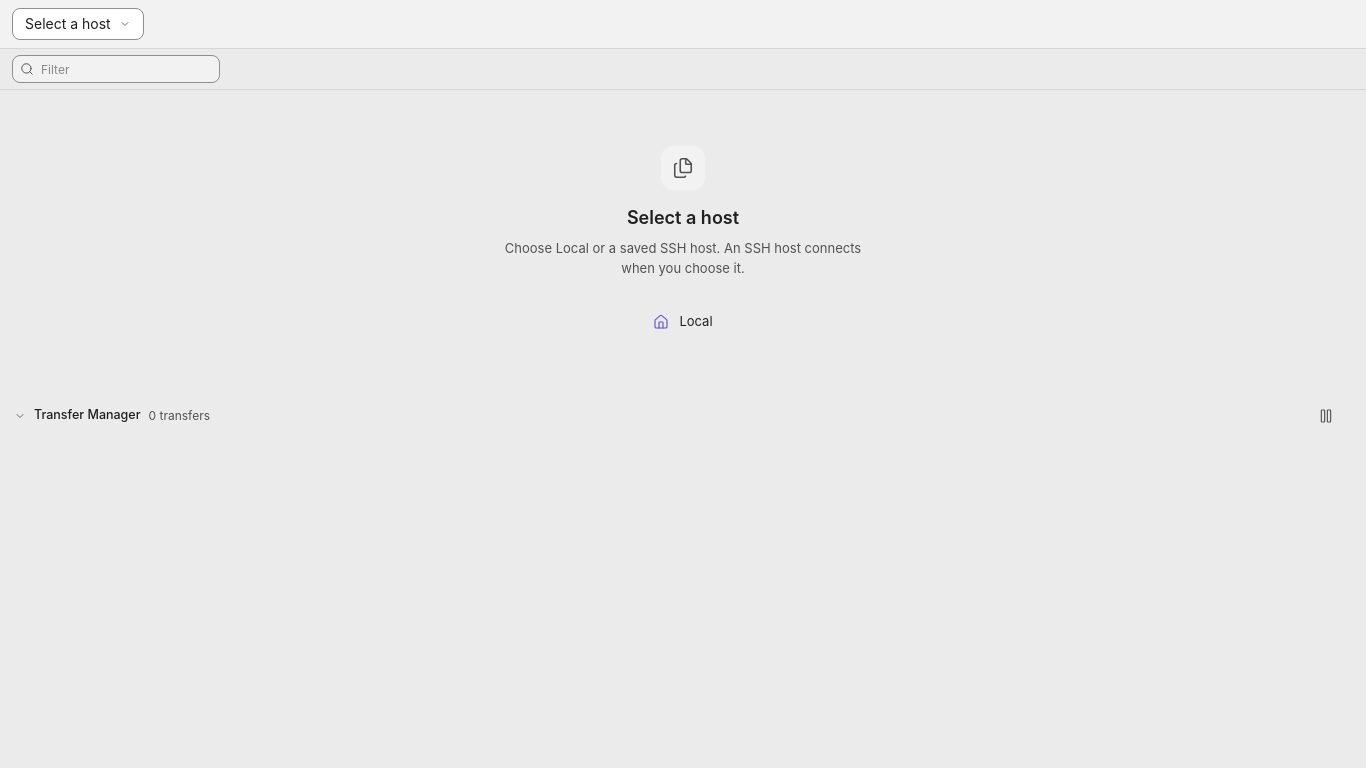
Scenario: SFTPPanel uploads › queues selected remote entries for a move to an absolute directory
Click the button "Select a host": (78,24) 12,8 -> 144,40
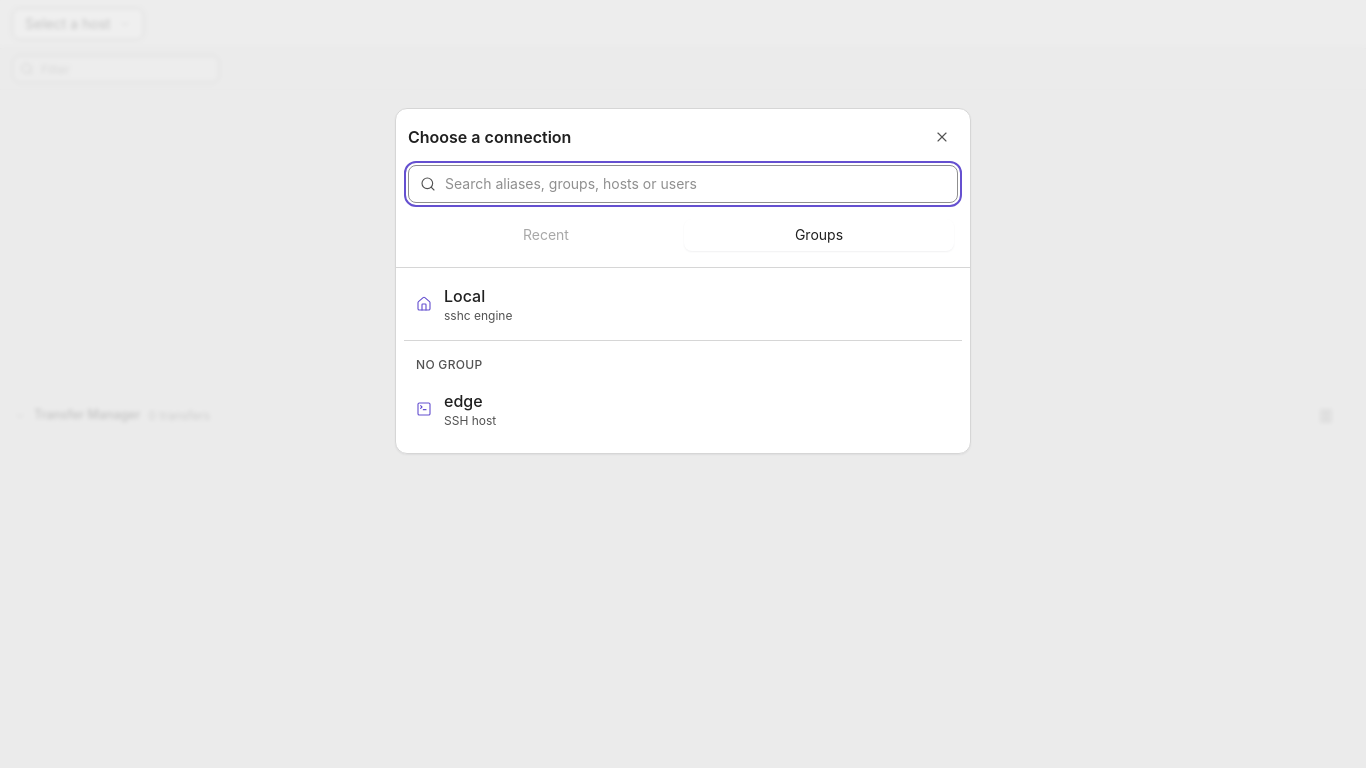
Click the button "edge SSH host": (463,401) 404,380 -> 962,436
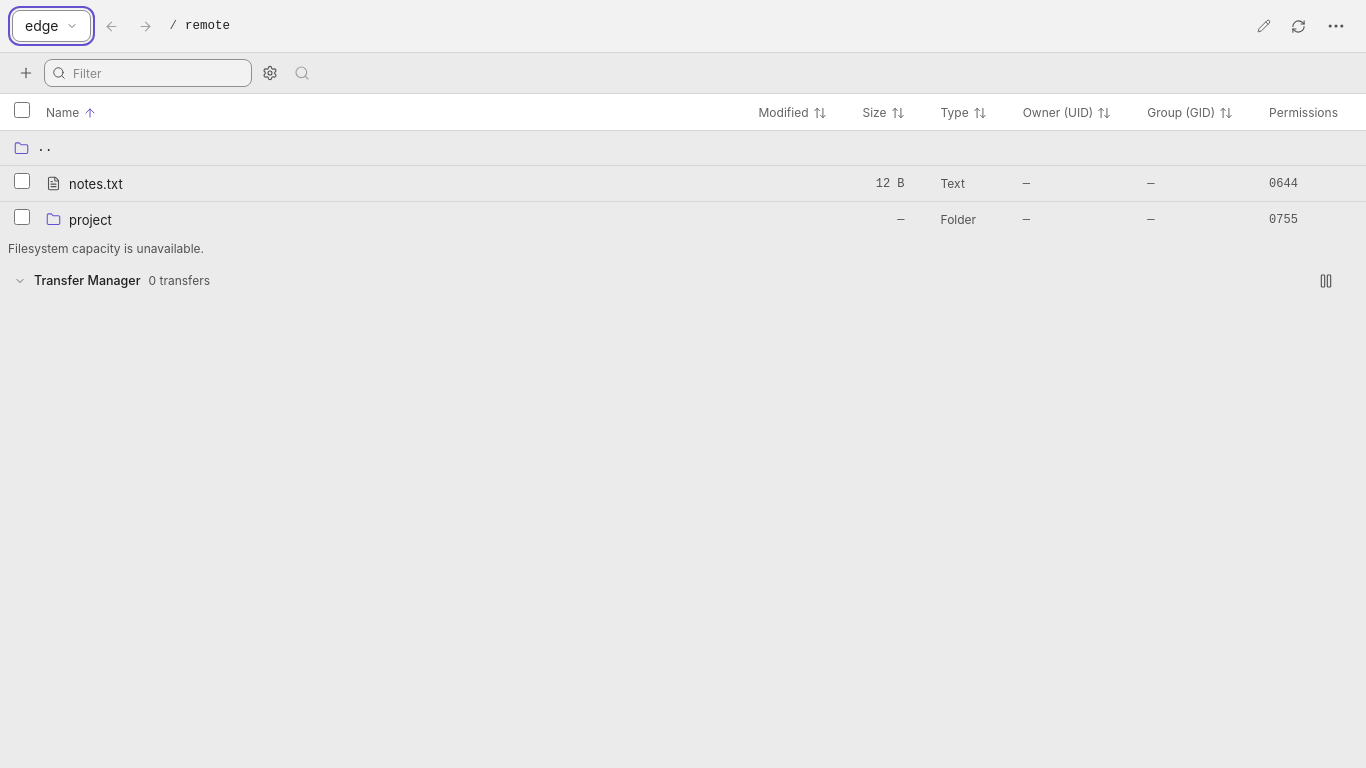
Click the checkbox named "Select all entries": (22,110) 14,102 -> 30,118
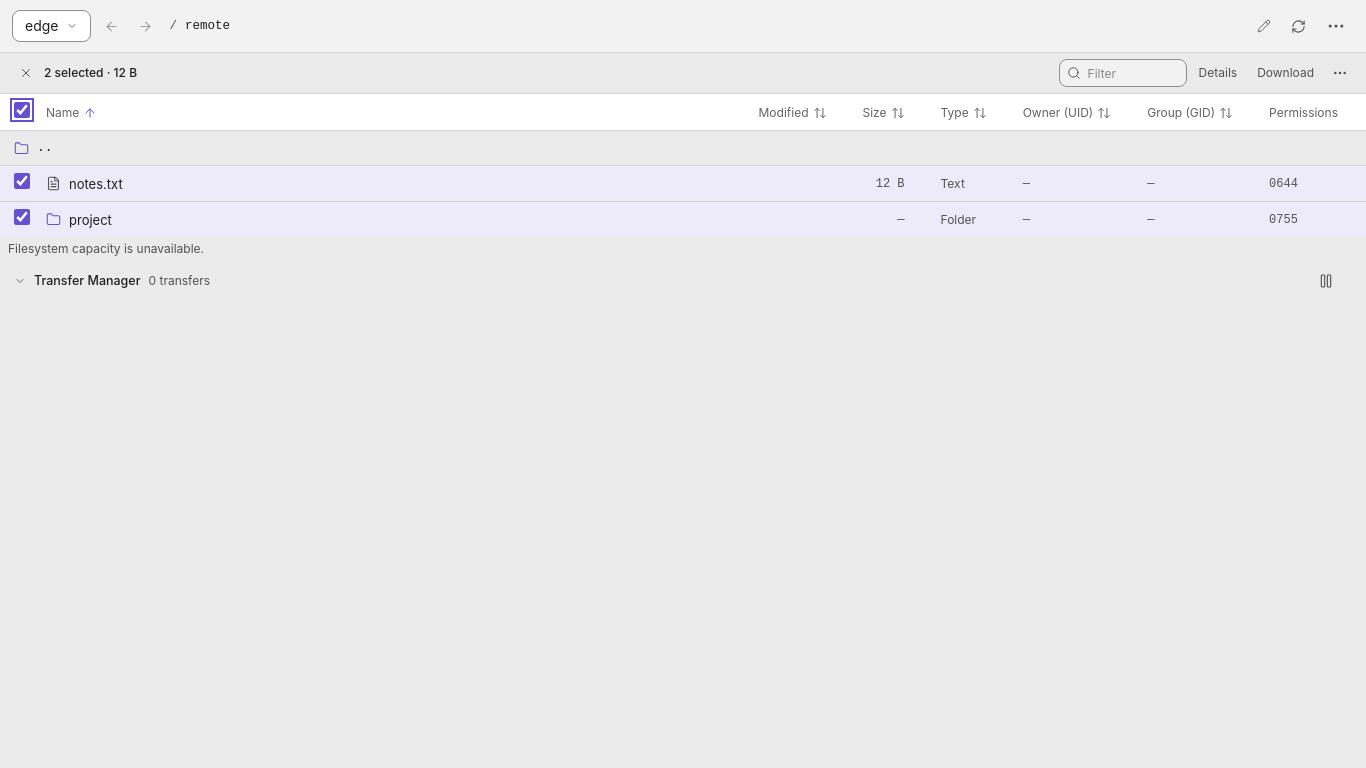
Click the button named "Actions for 2 selected items": (1340,73) 1326,59 -> 1354,87
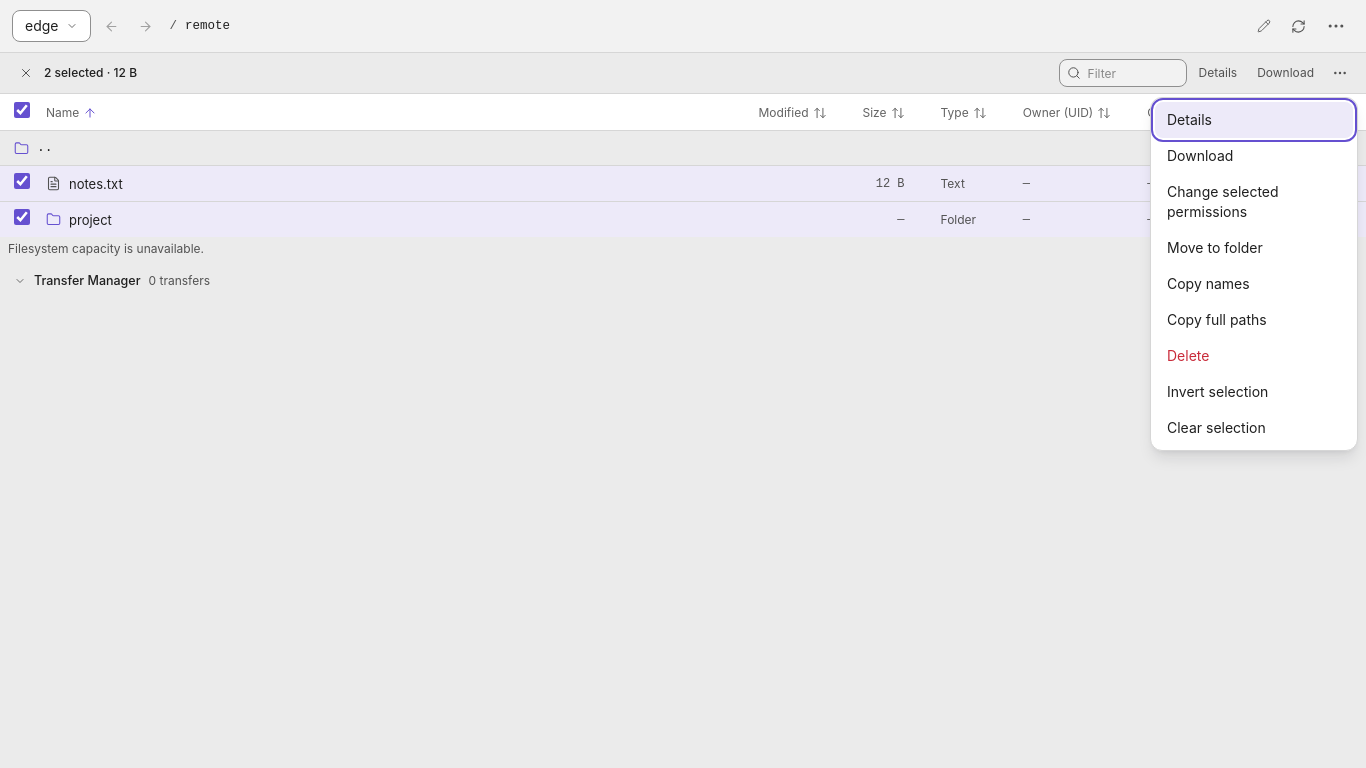
Click the menu item "Move to folder": (1254,248) 1155,230 -> 1353,266
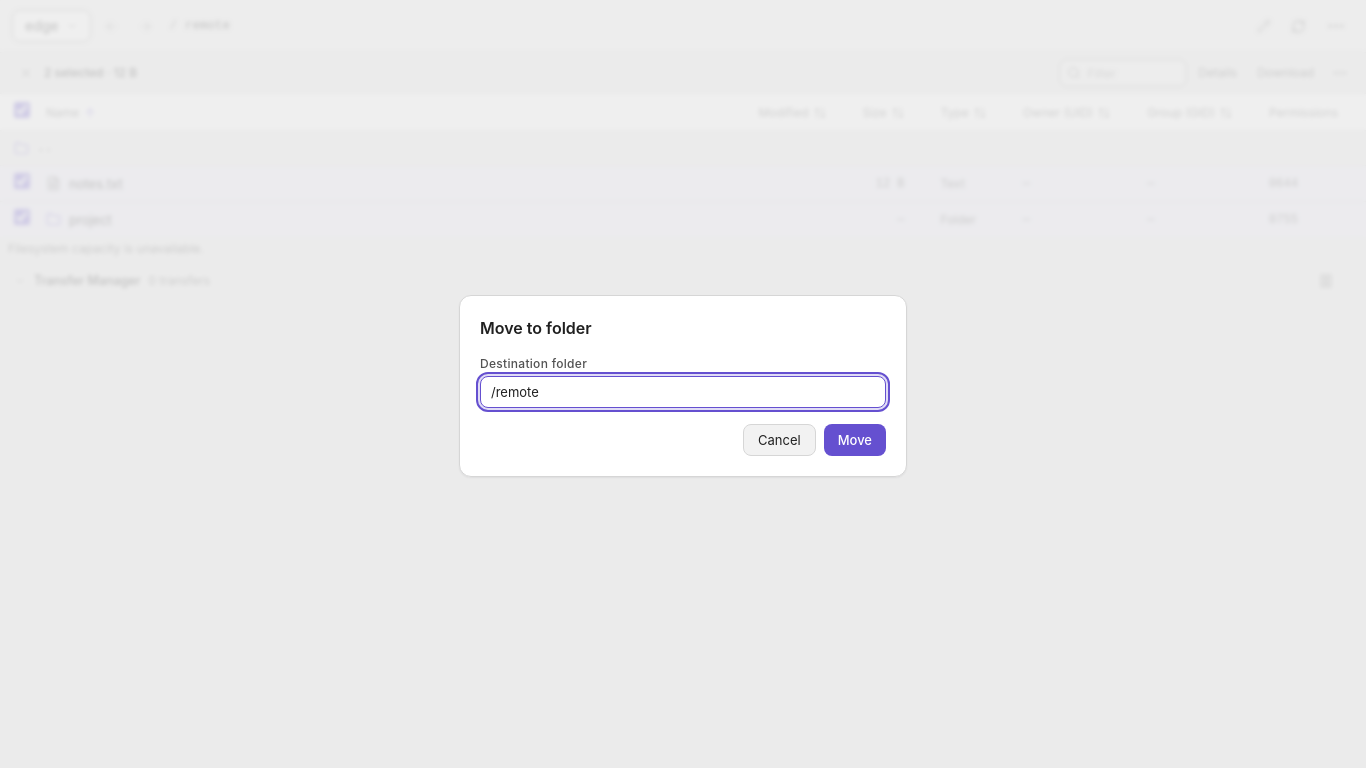
Replace the text in the field labelled "Destination folder" with "/archive": (683,392) 480,376 -> 886,408
Click the button "Move": (855,440) 824,424 -> 886,456
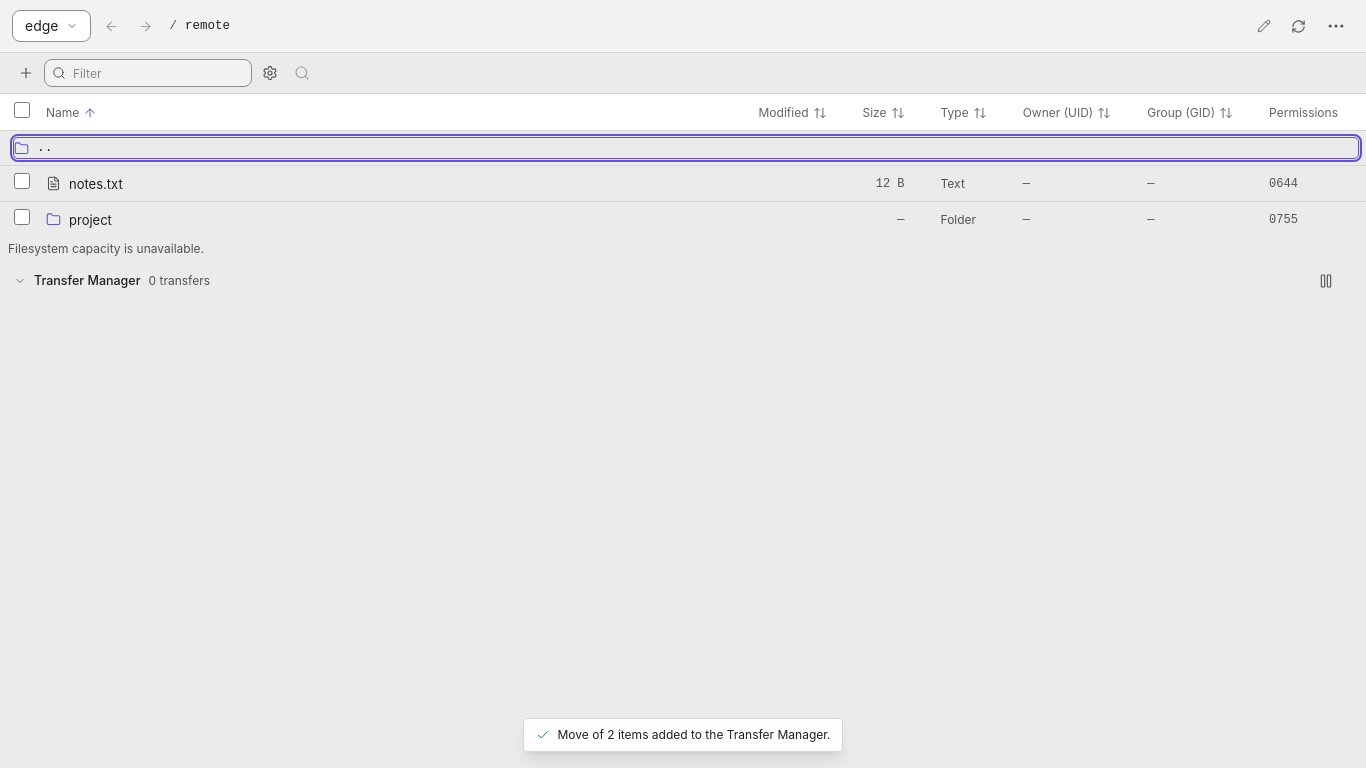
Now the text "Move of 2 items added to the Transfer Manager." is shown, box 522,718 -> 844,752
